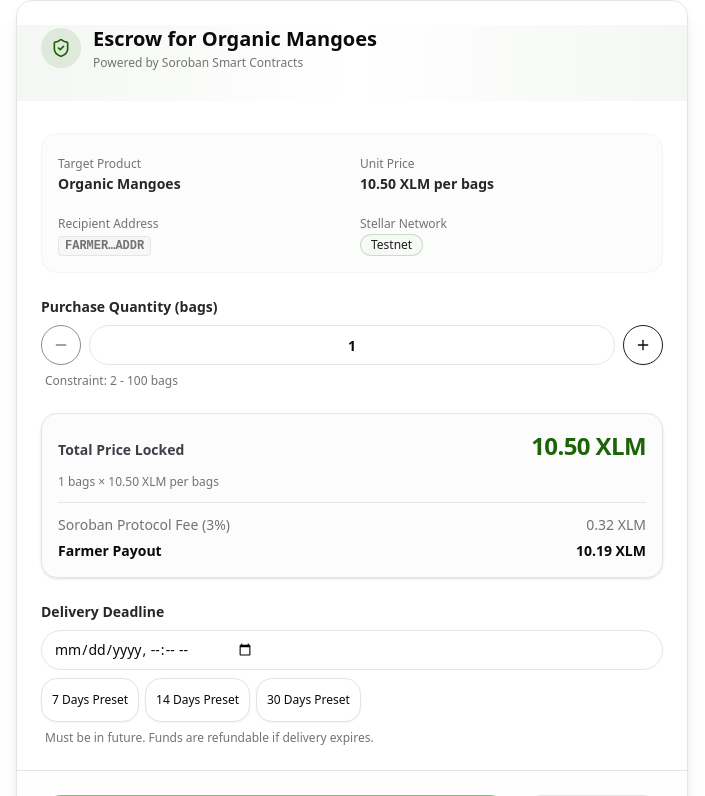
Test case: EnhancedEscrowTransaction Component › shows date presets buttons and updates input date value dynamically
Expected: the field labelled "Delivery Deadline" is empty, [41,630,663,670]
Click the button "7 Days Preset" at (90, 700), box [41,678,139,722]
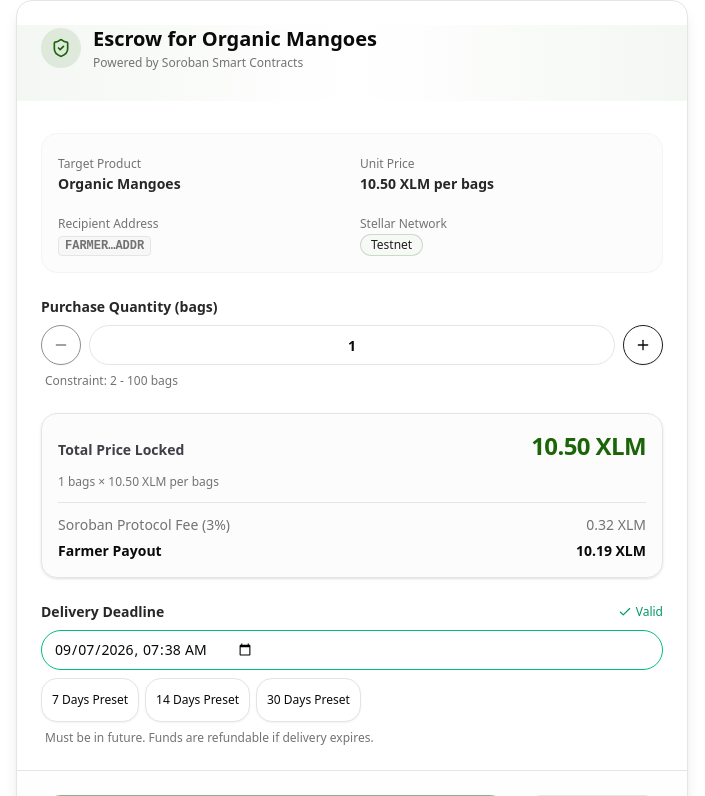
Expected: the field labelled "Delivery Deadline" is not empty, [41,630,663,670]
